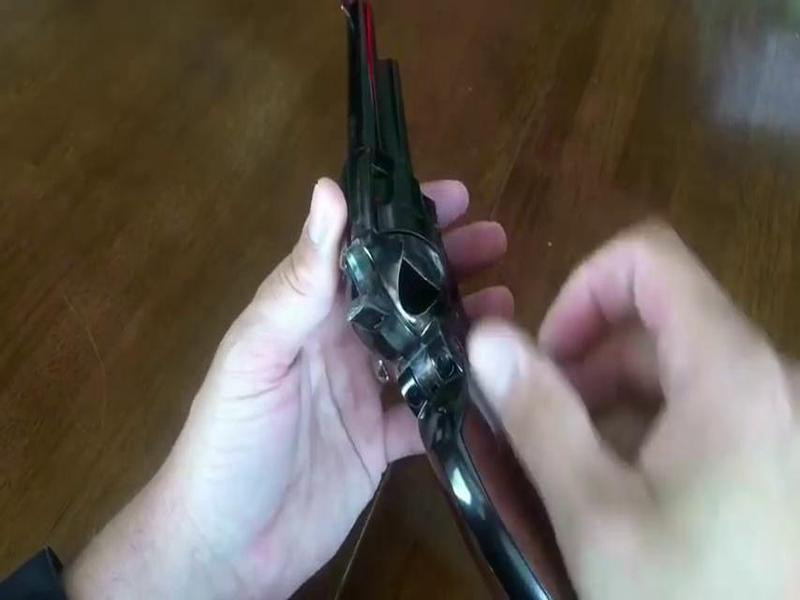Revolver: (304, 14, 590, 582)
